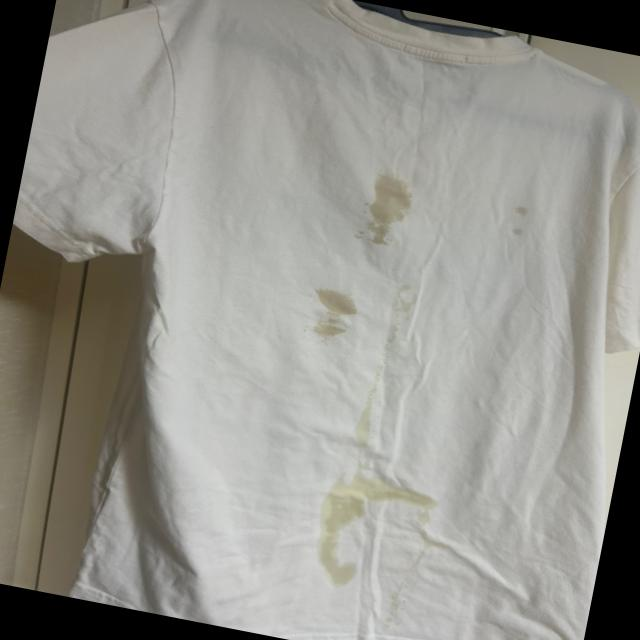stain: (316, 464, 450, 530), (290, 496, 378, 594), (361, 168, 426, 248), (298, 285, 362, 347), (349, 376, 396, 452), (494, 194, 540, 241), (392, 278, 431, 318)
